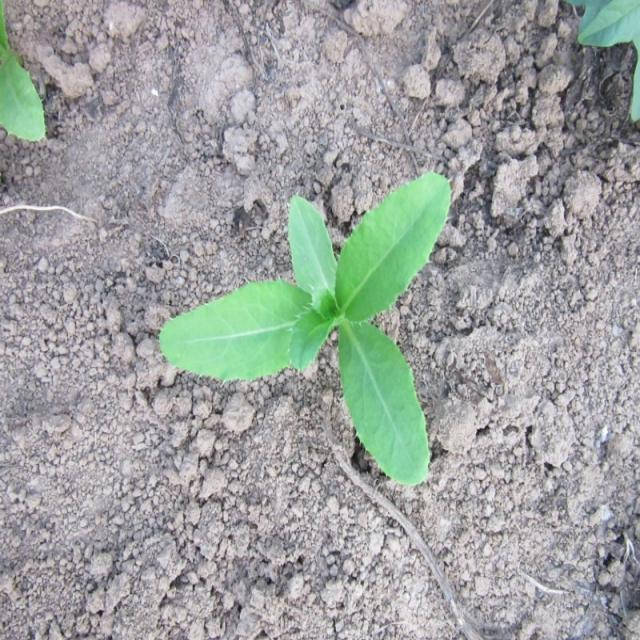cs: (158, 164, 455, 496)
